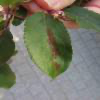Apple Scab Leaf: (23, 11, 76, 82)
